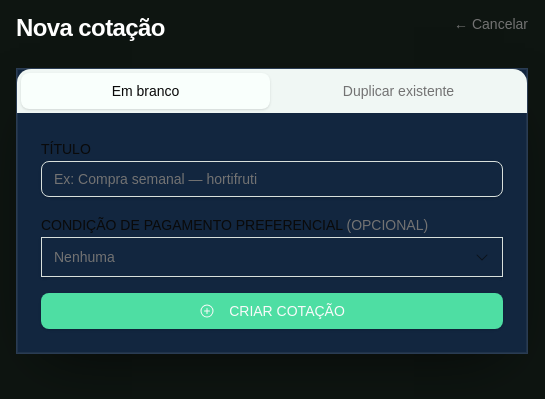
Scenario: título vazio bloqueia o envio
Click the button "Criar cotação" at (272, 311), box x1=41 y1=293 x2=503 y2=329
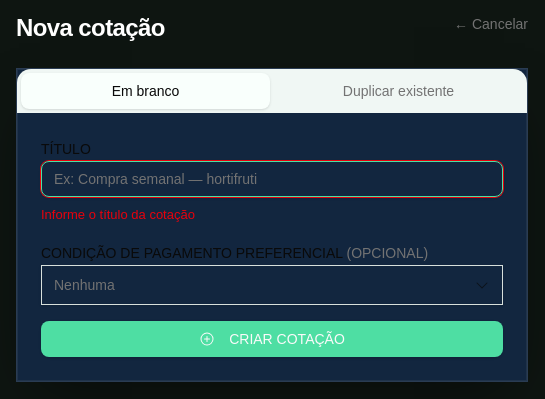
Now the text "Informe o título da cotação" is shown, box x1=41 y1=207 x2=195 y2=222
